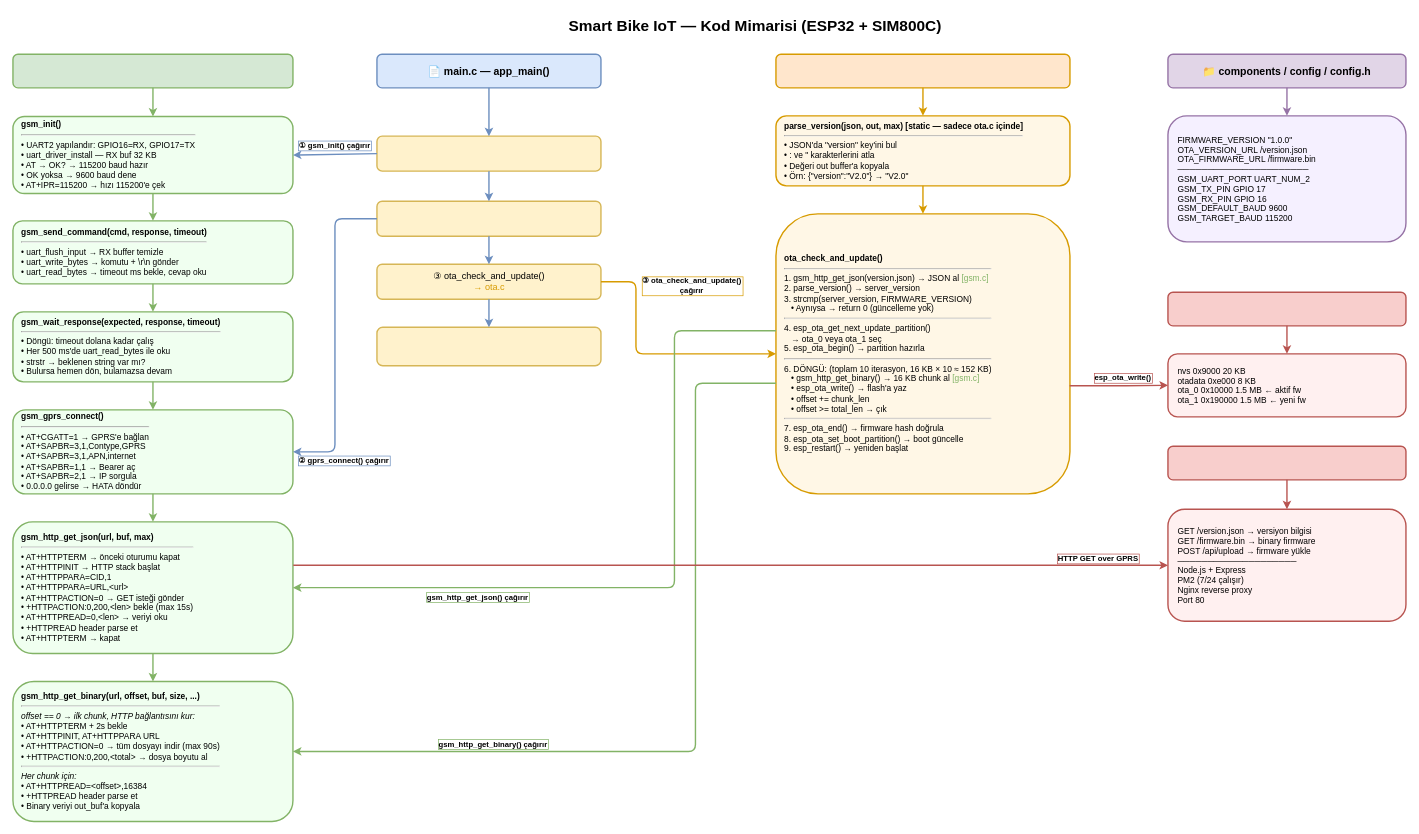
This 1419x834 diagram has some shape labels left out. Each missing label, with the centre of its shape:
"① gsm_init() → gsm.c" goes at point 488,153.
"② gsm_gprs_connect() → gsm.c" goes at point 488,218.
"④ while(1) — Normal çalışma döngüsü ESP_LOGI her 10 saniyede bir" goes at point 488,346.
"🌐 Hetzner VPS — boldmotorbikes.duckdns.org" goes at point 1286,462.
"💾 Flash Bellek — hafiza_listesi.csv" goes at point 1286,308.
"📁 components / gsm / gsm.c" goes at point 152,70.
"📁 components / ota / ota.c" goes at point 922,70.
